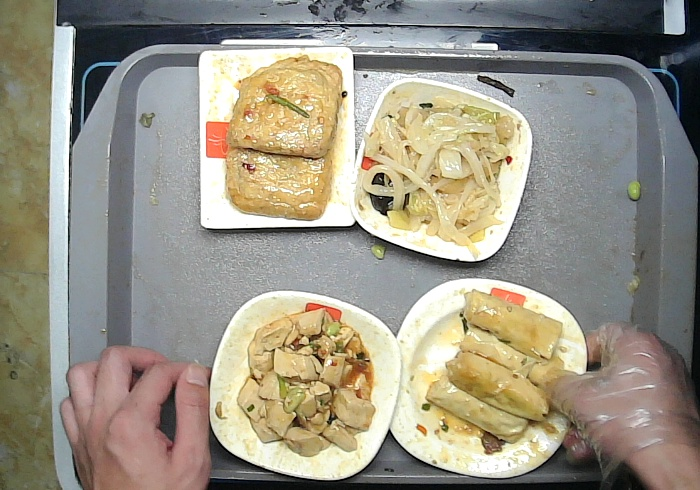SHKJ-Bai_Se_Cai_Die: (209, 290, 402, 482)
SHKJ-Bai_Se_Si_Fang_Cai_Die: (388, 278, 590, 477)
SHKJ-Bai_Se_Xiao_Fang_Die: (352, 78, 534, 267)
SHKJ-Si_Fang_Min: (197, 47, 361, 231)
